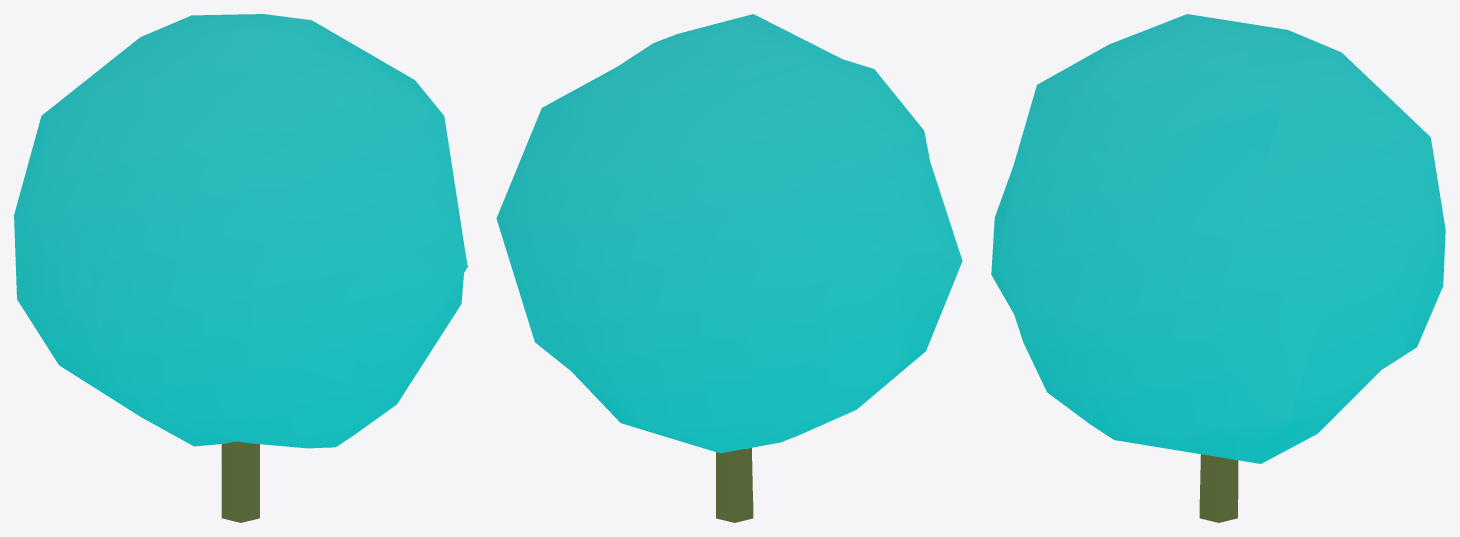
File: SM_Env_Hedge_Topiary_05.fbx
3 views of the same model, side by side, from view 1: azimuth 30°, elevation 25°; view 2: azimuth 150°, elevation 25°; view 3: azimuth 270°, elevation 25° (orthographic). The views are drawn at different scales.
Visible parts, largest first — view 1: SM_Env_Hedge_Topiary_04_LOD0; view 2: SM_Env_Hedge_Topiary_04_LOD0; view 3: SM_Env_Hedge_Topiary_04_LOD0.
Part boxes in pixels (x1=…): SM_Env_Hedge_Topiary_04_LOD0: x1=14, y1=14, x2=467, y2=522; SM_Env_Hedge_Topiary_04_LOD0: x1=496, y1=14, x2=962, y2=522; SM_Env_Hedge_Topiary_04_LOD0: x1=991, y1=14, x2=1445, y2=522.
Size of what is drawn, in the model's own units: 82.4 by 97.36 by 82.27.
